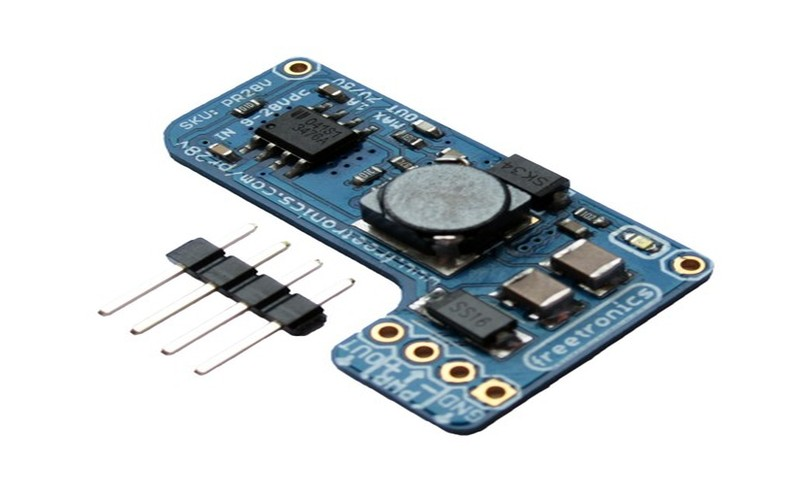Regulator: (72, 171, 355, 396), (225, 56, 387, 183)
